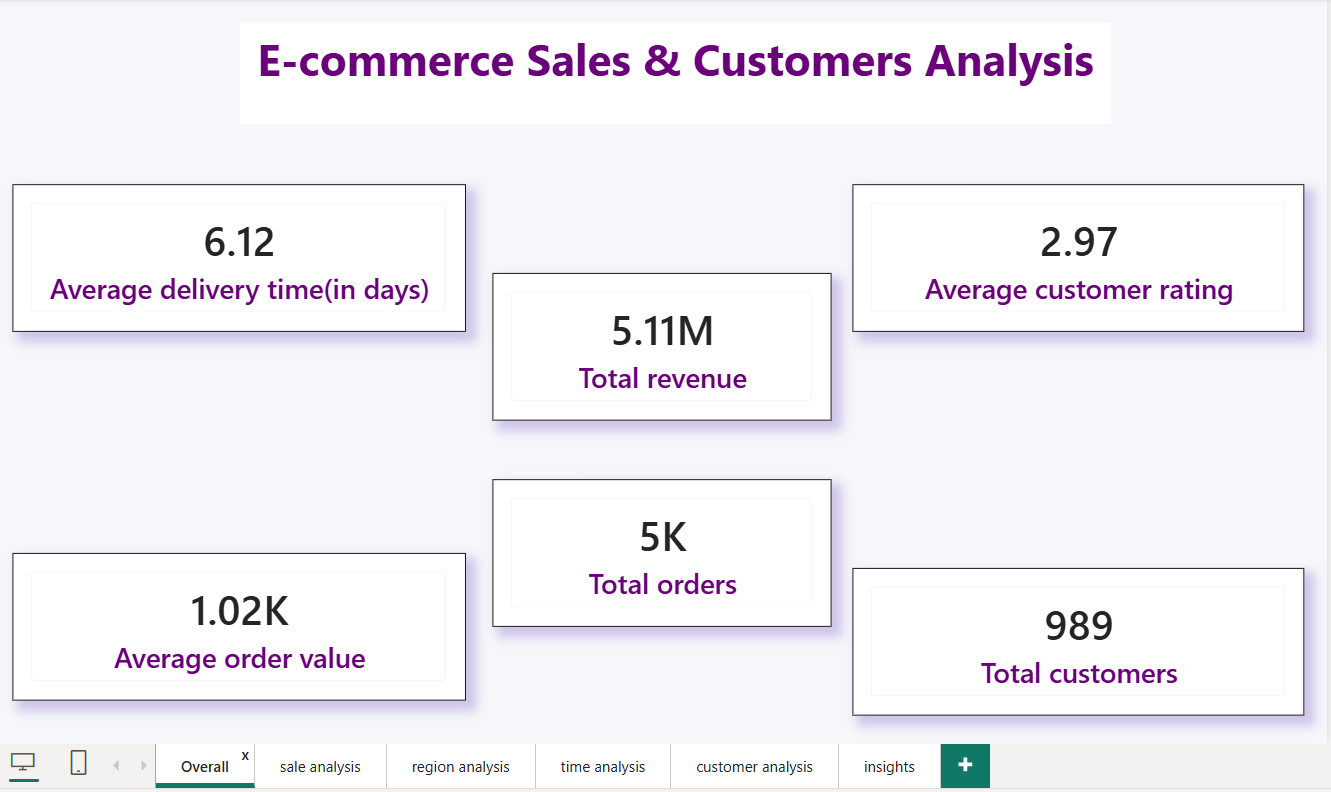

The dashboard page shown, as its layout file describes it:
{"tool":"powerbi","page":{"name":"Overall","canvas":[1280,720],"ordinal":0},"visuals":[{"type":"textbox","box":[231.6,24.1,840.9,97.7],"z":0},{"type":"cardVisual","fields":{"Data":["Sum(ecommerce.revenue)"]},"box":[475.2,265.2,327.5,142.4],"z":1000},{"type":"cardVisual","fields":{"Data":["ecommerce.Total orders"]},"box":[475.2,464.5,327.5,142.4],"z":2000},{"type":"cardVisual","fields":{"Data":["ecommerce.Average delivery time(in days)"]},"box":[12.5,179.8,437.8,142.4],"z":3000},{"type":"cardVisual","fields":{"Data":["ecommerce.Average customer rating"]},"box":[822.3,179.8,436,142.4],"z":4000},{"type":"cardVisual","fields":{"Data":["ecommerce.Total customers"]},"box":[822.3,550,436,142.4],"z":5000},{"type":"cardVisual","fields":{"Data":["ecommerce.Average order value"]},"box":[12.5,535.7,437.8,142.4],"z":6000}]}

Visuals, with their boxes on the page's 1280x720 design canvas (x1, y1, x2, y2). These are canvas units, not pixel positions in the 1331x792 screenshot, which may show the page scaled, cropped or inside an application window:
textbox: <bbox>232, 24, 1072, 122</bbox>
cardVisual - Sum(ecommerce.revenue): <bbox>475, 265, 803, 408</bbox>
cardVisual - ecommerce.Total orders: <bbox>475, 464, 803, 607</bbox>
cardVisual - ecommerce.Average delivery time(in days): <bbox>12, 180, 450, 322</bbox>
cardVisual - ecommerce.Average customer rating: <bbox>822, 180, 1258, 322</bbox>
cardVisual - ecommerce.Total customers: <bbox>822, 550, 1258, 692</bbox>
cardVisual - ecommerce.Average order value: <bbox>12, 536, 450, 678</bbox>
